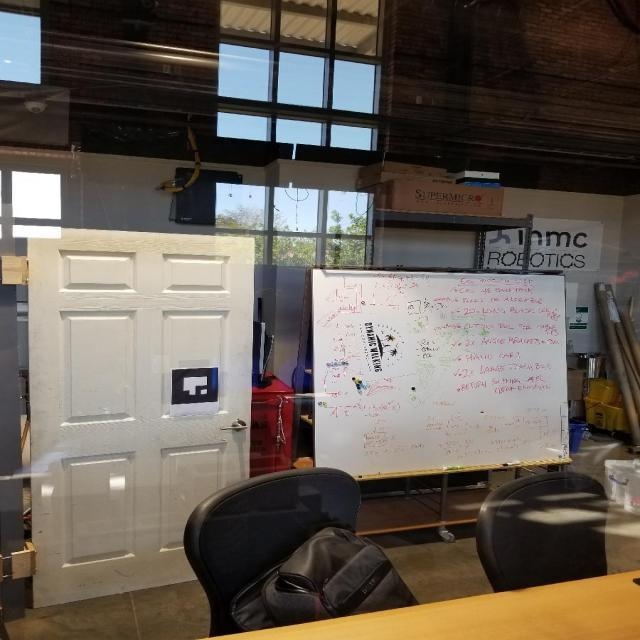door: (21, 225, 261, 612), (222, 416, 254, 438)
